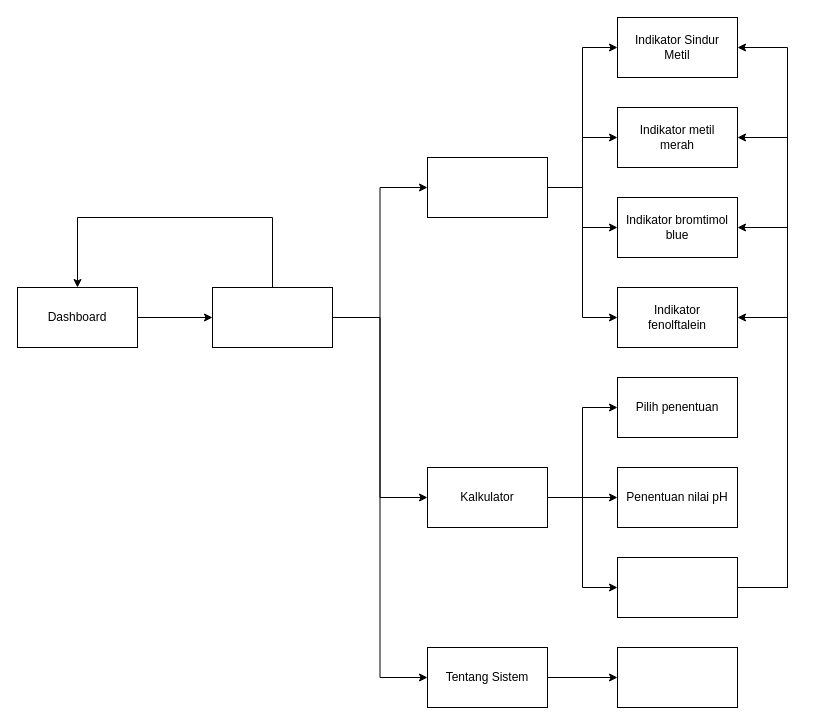
The diagram is 813 pixels wide and 725 high, and some of its shapes have lost their labels. The shapes that lost their labels are listed below. From the top down, each one's centre as x and y in pixels, then its label:
the point at 487,187: Penjelasan
the point at 272,317: menu
the point at 677,587: Penentuan indikator
the point at 677,677: Keterangan kelompok dan penjelasan sistem
